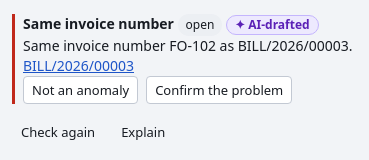
it: accounting AI client › lists anomaly flags and lets the user dismiss one
Check: the text "Same invoice number" is shown, box [23,14,174,33]
Check: the link "BILL/2026/00003" is shown, box [23,56,134,75]
Click the button "Not an anomaly". click: (81, 90)
box: [23,76,138,104]
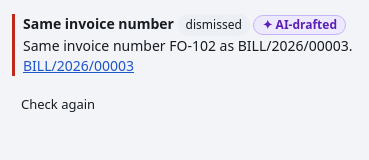
Check: the text "dismissed" is shown, box [178,14,250,36]
